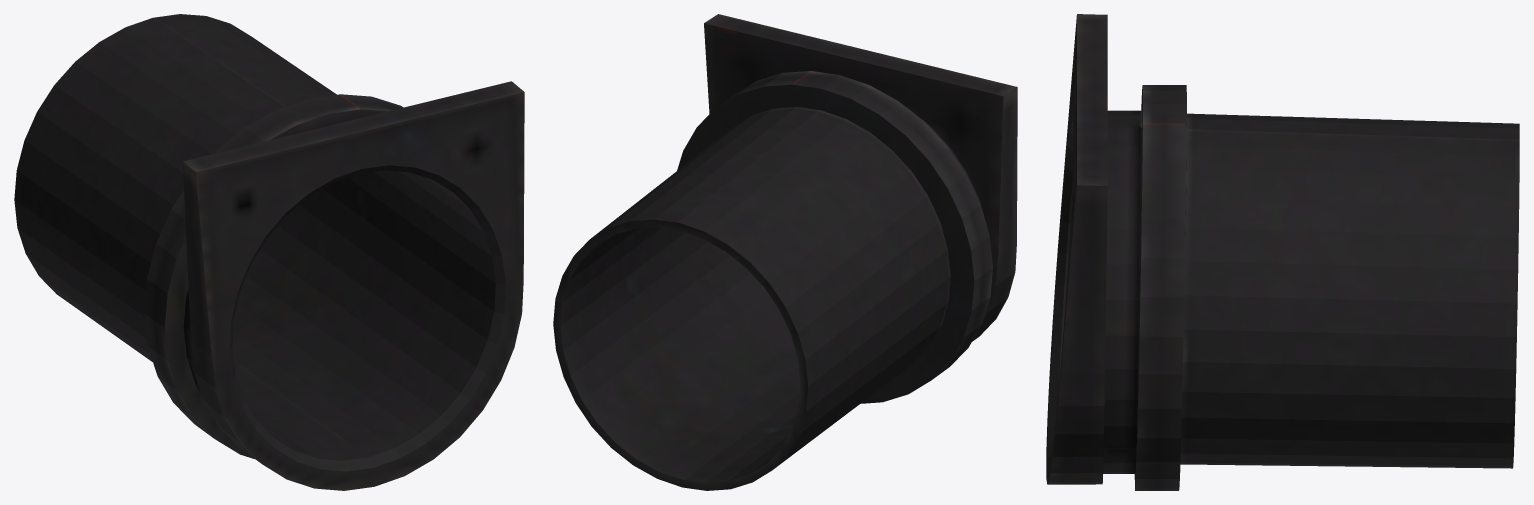
3 renders of one model, left to right at view 1: azimuth 30°, elevation 25°; view 2: azimuth 150°, elevation 25°; view 3: azimuth 270°, elevation 25°, orthographic. The views are drawn at different scales.
Visible parts, largest first — view 1: TW_591c4e1186f77410354b316e_PZ_Import; view 2: TW_591c4e1186f77410354b316e_PZ_Import; view 3: TW_591c4e1186f77410354b316e_PZ_Import.
Part boxes in pixels (<box>): TW_591c4e1186f77410354b316e_PZ_Import: <box>14,14,524,490</box>; TW_591c4e1186f77410354b316e_PZ_Import: <box>553,14,1017,490</box>; TW_591c4e1186f77410354b316e_PZ_Import: <box>1046,14,1519,490</box>.
Size of the model in its own units: 0.0191 by 0.022 by 0.0191.
1 material, 1 textured.
